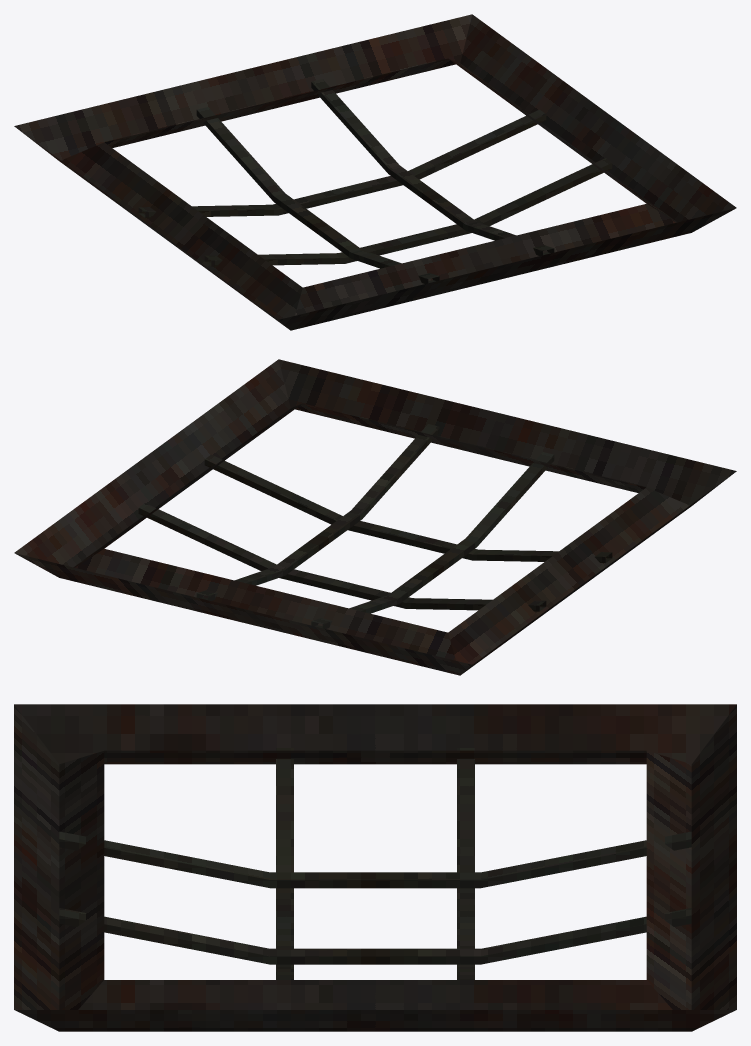
Rendered from ceiling_lamp_fps_1.glb.
3 views of the same model, one above another, from view 1: azimuth 30°, elevation 25°; view 2: azimuth 150°, elevation 25°; view 3: azimuth 270°, elevation 25° (orthographic). The views are drawn at different scales.
Visible parts, largest first — view 1: ceiling_lamp_fps_1; view 2: ceiling_lamp_fps_1; view 3: ceiling_lamp_fps_1.
Boxes of the visible parts, left/top/right/bottom form: ceiling_lamp_fps_1: left=14, top=14, right=736, bottom=330; ceiling_lamp_fps_1: left=14, top=359, right=736, bottom=675; ceiling_lamp_fps_1: left=14, top=704, right=736, bottom=1031.
Bounding box in the file's own units: 0.8 × 0.09 × 0.8.
3 materials, 3 textured.
